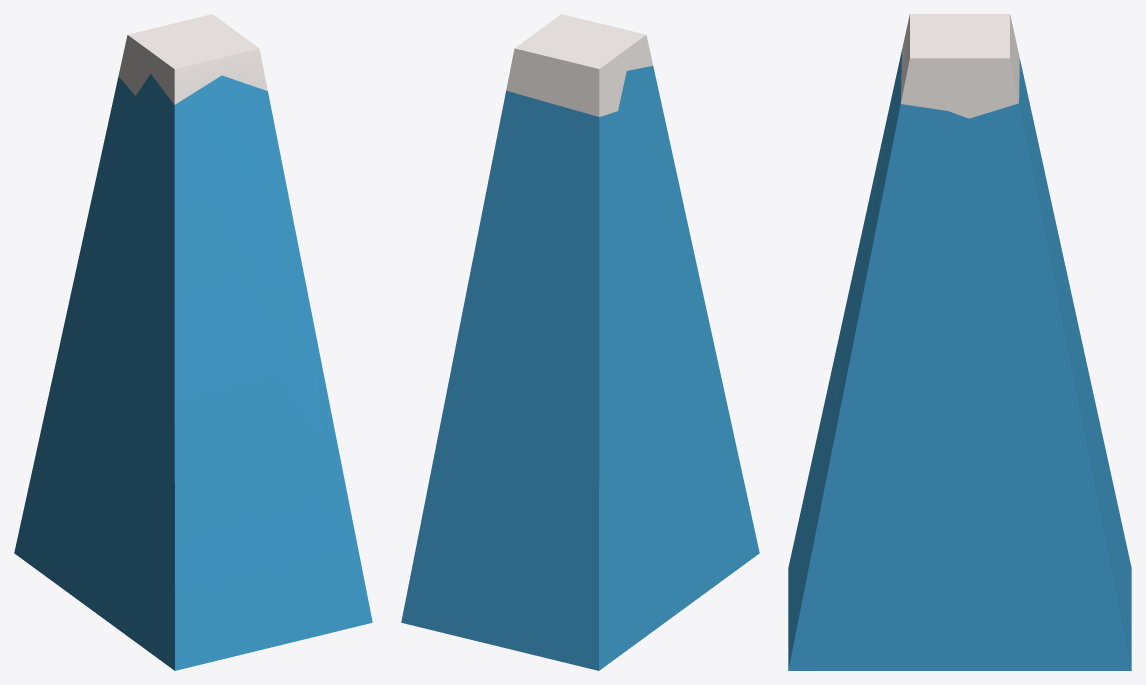
File: Mountain1.fbx
3 renders of one model, left to right at view 1: azimuth 30°, elevation 25°; view 2: azimuth 150°, elevation 25°; view 3: azimuth 270°, elevation 25°, orthographic. The views are drawn at different scales.
Parts seen in each view (by area): view 1: Mountain; view 2: Mountain; view 3: Mountain.
Boxes of the visible parts, <box> form: Mountain: <box>14,14,372,670</box>; Mountain: <box>401,14,759,670</box>; Mountain: <box>788,14,1131,670</box>.
Bounding box in the file's own units: 111 × 294 × 157.
